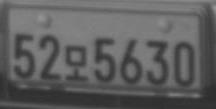0: (173, 42, 196, 86)
2: (39, 34, 61, 81)
3: (145, 40, 168, 85)
5: (93, 37, 117, 82), (13, 32, 34, 79)
6: (119, 39, 144, 84)
모: (64, 45, 89, 82)
